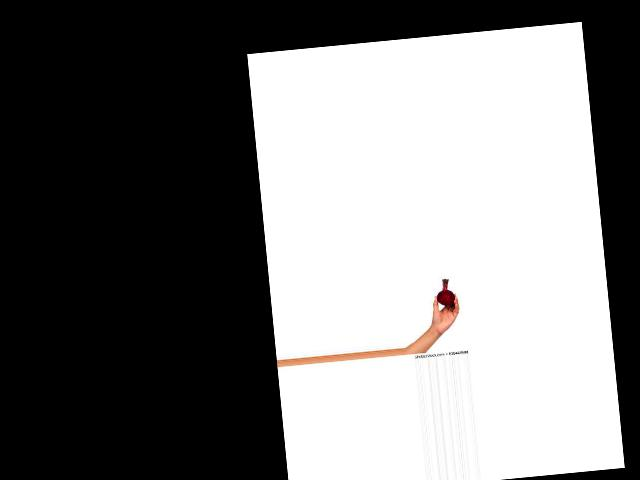beet: (435, 278, 456, 305)
